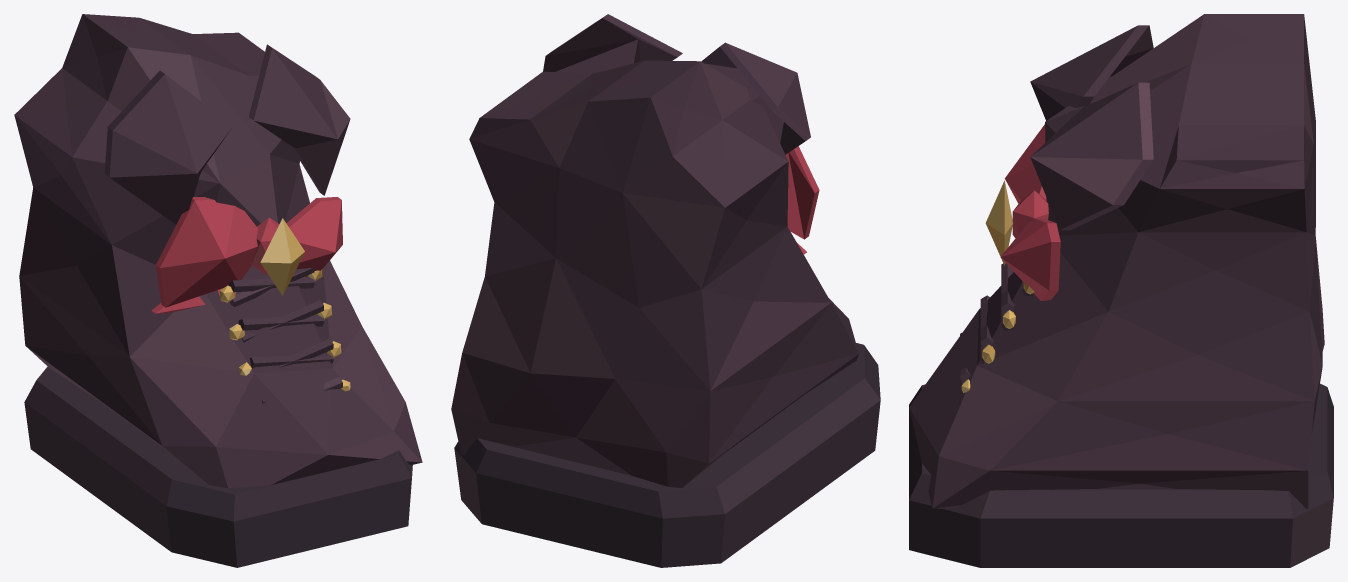
File: boot_left.glb
The picture shows the model from 3 angles, left to right: view 1: azimuth 30°, elevation 25°; view 2: azimuth 150°, elevation 25°; view 3: azimuth 270°, elevation 25°; orthographic projection. The views are drawn at different scales.
Parts seen in each view (by area): view 1: Boot • reference folded leather shell.L, Boot • sculpted platform sole.L, Boot • sharp folded cuff.L-1, Boot • sharp folded cuff.L1, Boot bow.L • reference left loop, Boot bow.L • reference right loop, Boot bow.L • diamond clasp, Boot lace.L.2.1, Boot lace.L.3.1, Boot bow.L • knot, Boot lace.L.1.1, Boot lace.L.2.-1 (+2 smaller); view 2: Boot • reference folded leather shell.L, Boot • sculpted platform sole.L, Boot • sharp folded cuff.L-1, Boot • sharp folded cuff.L1, Boot bow.L • reference left loop; view 3: Boot • reference folded leather shell.L, Boot • sculpted platform sole.L, Boot • sharp folded cuff.L1, Boot • sharp folded cuff.L-1, Boot bow.L • reference right loop, Boot bow.L • reference left loop, Boot bow.L • diamond clasp, Boot bow.L • knot.
Part boxes in pixels (<box>): Boot • reference folded leather shell.L: <box>14,14,422,488</box>; Boot • sculpted platform sole.L: <box>24,366,412,567</box>; Boot • sharp folded cuff.L-1: <box>104,70,233,224</box>; Boot • sharp folded cuff.L1: <box>248,44,350,195</box>; Boot bow.L • reference left loop: <box>155,197,257,307</box>; Boot bow.L • reference right loop: <box>286,197,342,276</box>; Boot bow.L • diamond clasp: <box>260,218,304,295</box>; Boot lace.L.2.1: <box>238,315,324,330</box>; Boot lace.L.3.1: <box>229,276,315,292</box>; Boot bow.L • knot: <box>251,217,279,275</box>; Boot lace.L.1.1: <box>249,353,333,368</box>; Boot lace.L.2.-1: <box>241,300,323,342</box>; Boot • reference folded leather shell.L: <box>451,60,858,487</box>; Boot • sculpted platform sole.L: <box>454,343,880,567</box>; Boot • sharp folded cuff.L-1: <box>701,42,810,154</box>; Boot • sharp folded cuff.L1: <box>543,14,682,73</box>; Boot bow.L • reference left loop: <box>785,146,819,239</box>; Boot • reference folded leather shell.L: <box>909,14,1324,508</box>; Boot • sculpted platform sole.L: <box>909,383,1333,567</box>; Boot • sharp folded cuff.L1: <box>1030,82,1153,230</box>; Boot • sharp folded cuff.L-1: <box>1030,25,1153,120</box>; Boot bow.L • reference right loop: <box>1000,218,1060,300</box>; Boot bow.L • reference left loop: <box>1005,124,1046,203</box>; Boot bow.L • diamond clasp: <box>985,180,1012,265</box>; Boot bow.L • knot: <box>1012,190,1048,237</box>.
Bounding box in the file's own units: 0.755 × 1.19 × 1.
